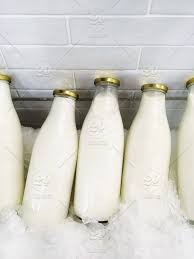milk: (28, 80, 72, 226), (76, 69, 116, 218), (134, 64, 168, 207)
